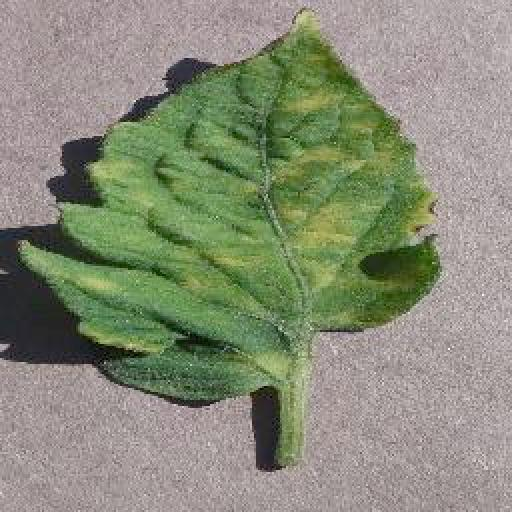disease_tomato: (16, 3, 442, 405)
